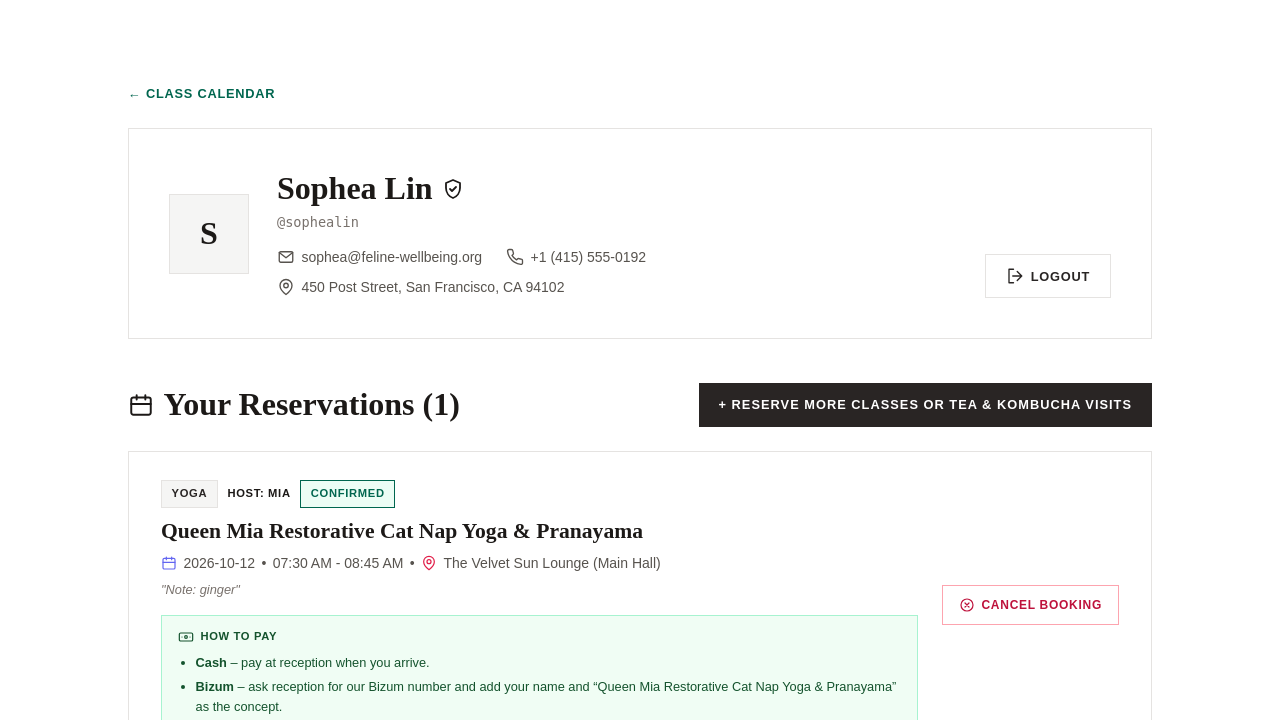
Test: DashboardView › keeps the booking confirmed and shows an error when cancelling fails
Step 1. Click the button "Cancel Booking" → (1031, 605), box [942,585,1119,625]
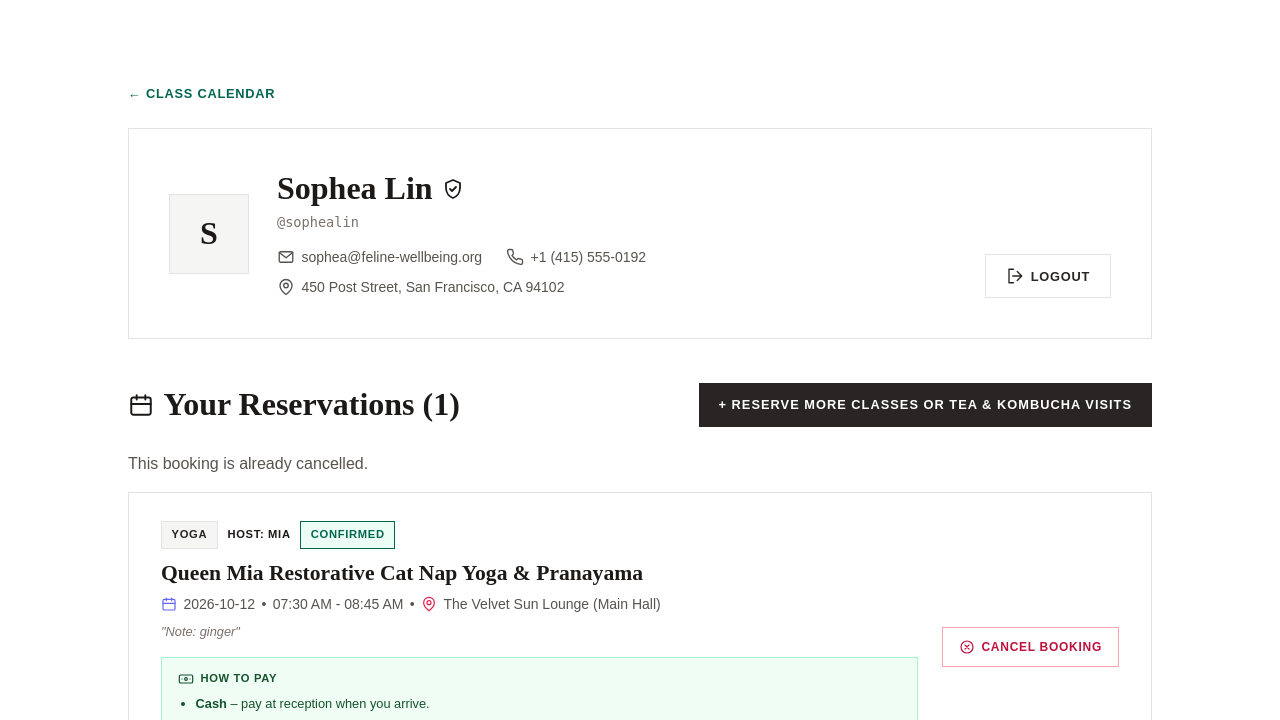
Expected: the text "Confirmed" is shown, [300,521,395,549]
Now the text "This booking is already cancelled." is shown, box [128,455,368,472]
